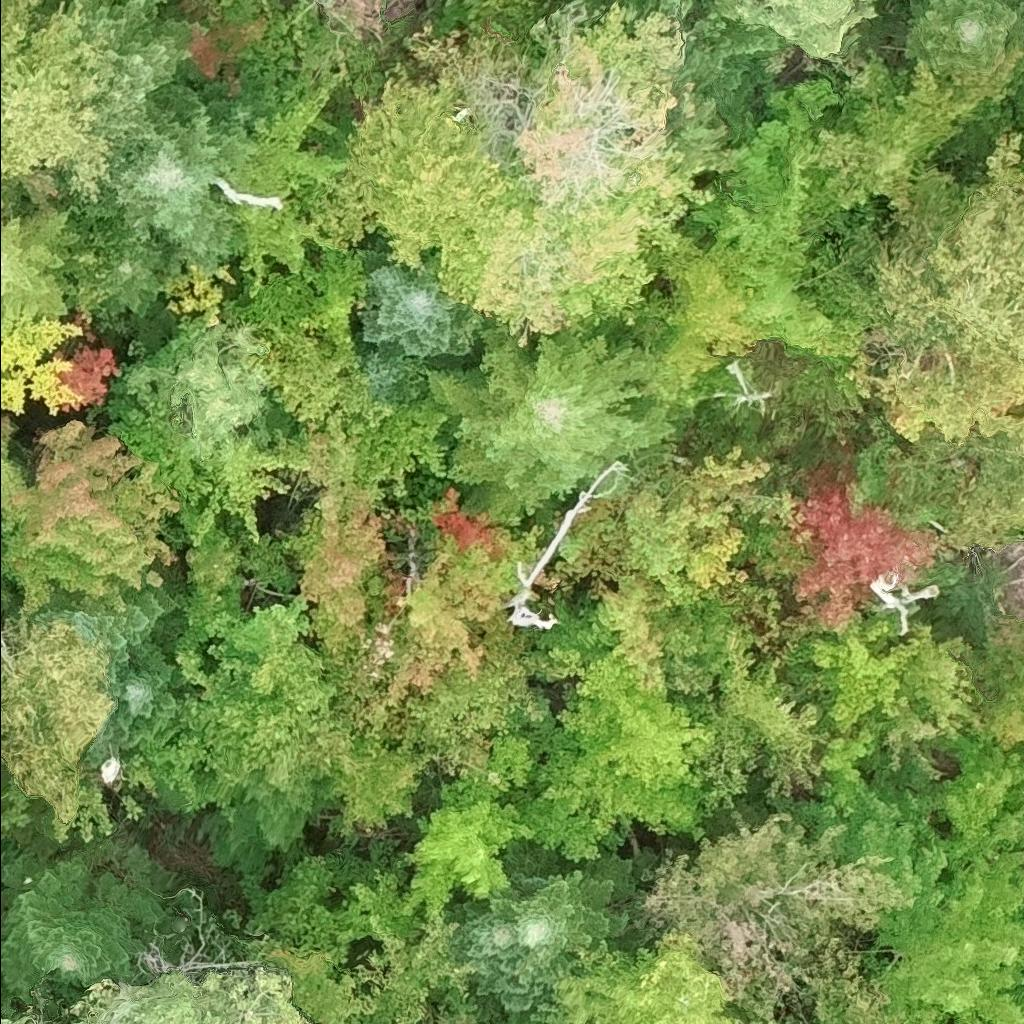crown: (640, 808, 911, 1023), (550, 443, 775, 691), (427, 320, 677, 532), (298, 59, 508, 306), (143, 582, 360, 811), (865, 171, 1023, 453), (514, 1, 719, 216), (522, 649, 717, 863), (689, 79, 842, 347), (461, 176, 687, 352), (0, 409, 179, 614), (0, 826, 180, 1023), (224, 242, 394, 436), (83, 79, 253, 272), (220, 73, 348, 298), (791, 440, 939, 633), (814, 51, 986, 216), (405, 486, 547, 677), (872, 847, 1023, 1023), (0, 614, 114, 844), (275, 429, 388, 660), (236, 850, 375, 1023), (792, 754, 948, 908), (784, 608, 920, 782), (81, 0, 213, 172), (0, 0, 113, 200), (397, 769, 539, 924), (347, 868, 479, 1023), (648, 238, 782, 390), (508, 841, 636, 998), (550, 929, 744, 1023), (79, 618, 197, 770), (355, 234, 494, 361), (27, 583, 180, 689), (187, 425, 311, 550), (59, 964, 311, 1023), (452, 888, 555, 1017), (902, 0, 1023, 104), (0, 182, 89, 319), (673, 0, 879, 59), (943, 734, 1023, 874), (328, 735, 434, 835), (900, 620, 986, 742), (356, 391, 451, 501), (176, 0, 268, 98), (946, 432, 1023, 546), (100, 215, 183, 317), (809, 933, 899, 1023), (361, 343, 413, 397), (625, 0, 693, 17), (217, 0, 262, 24), (1009, 59, 1023, 128), (0, 766, 8, 813), (38, 0, 62, 15), (0, 1017, 44, 1023), (66, 0, 74, 10), (779, 1020, 801, 1023), (71, 0, 76, 7), (0, 820, 2, 835), (1022, 147, 1023, 153)
